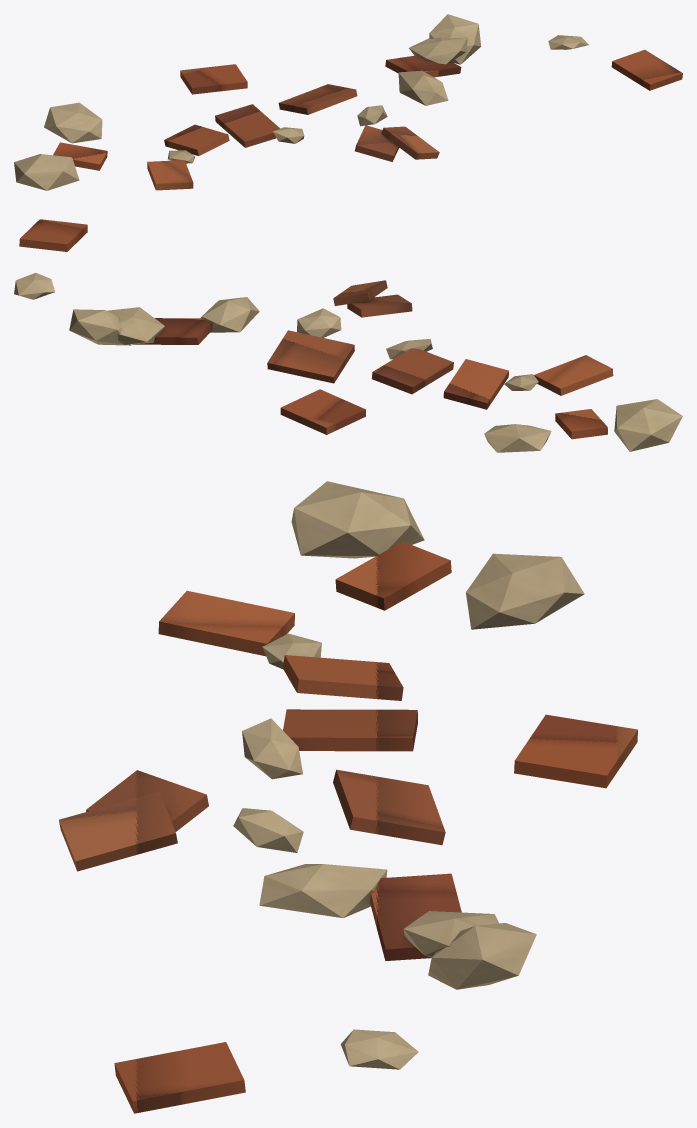
Rendered from vault_tell_siracusa.glb.
3 renders of one model, top to bottom at view 1: azimuth 30°, elevation 25°; view 2: azimuth 150°, elevation 25°; view 3: azimuth 270°, elevation 25°, orthographic. The views are drawn at different scales.
Visible parts, largest first — view 1: vault_tell_siracusa; view 2: vault_tell_siracusa; view 3: vault_tell_siracusa.
Part boxes in pixels (x1,y1,x2,y2): vault_tell_siracusa: (14, 14, 682, 190); vault_tell_siracusa: (14, 219, 682, 452); vault_tell_siracusa: (59, 481, 637, 1113).
Bounding box in the file's own units: 1.99 × 0.1022 × 0.8194.
Materials: 2 (2 with a texture image).
